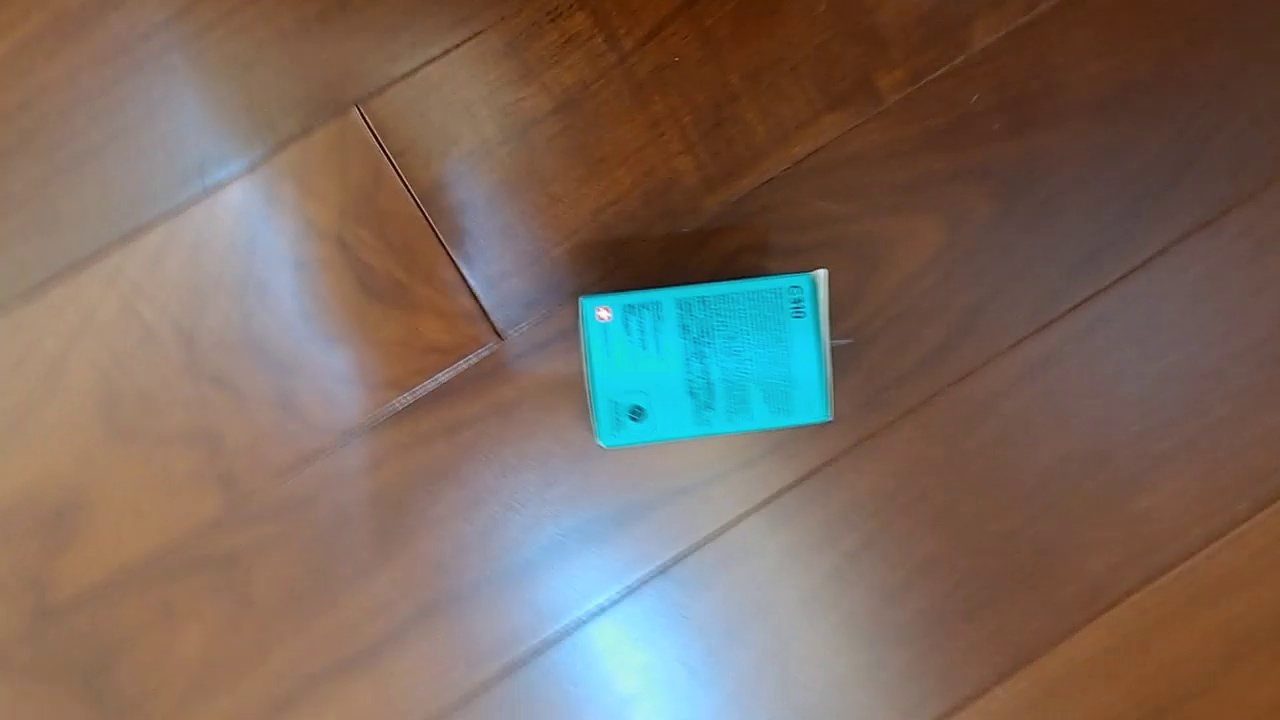webcam: (578, 267, 836, 450)
